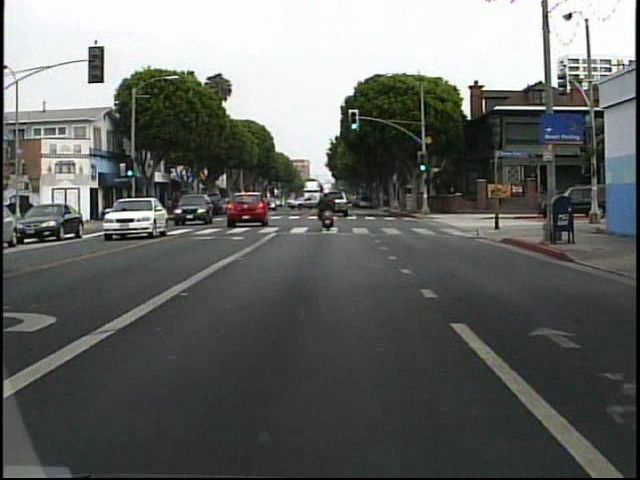person: (313, 186, 343, 238)
